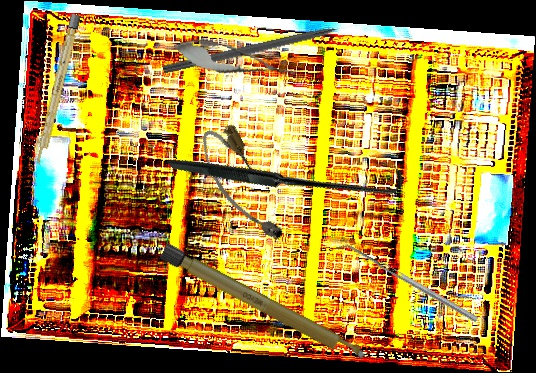Cannula: (192, 118, 292, 253)
Hook Surgical: (166, 49, 408, 293), (162, 19, 360, 77)
Micro Scissor: (170, 31, 300, 90)
Scalpel Handle: (158, 242, 369, 367), (33, 13, 82, 167)
Spatula Surgical: (335, 238, 479, 328)
